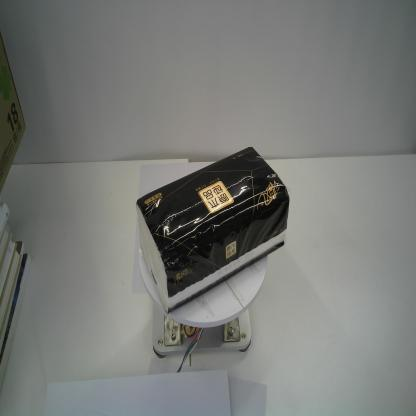Tissue: (134, 146, 291, 315)
